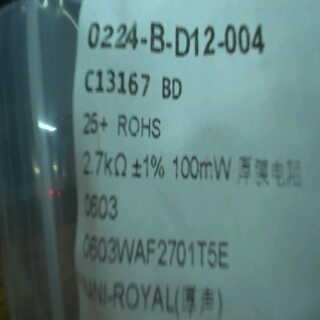2.7kR: (77, 149, 133, 184)
